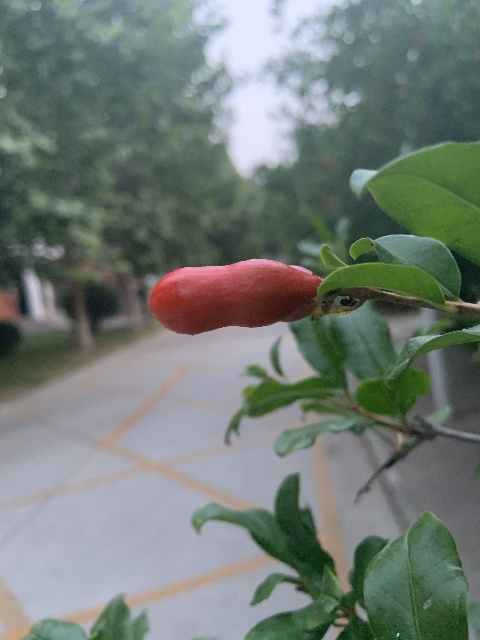bud: (147, 257, 322, 334)
